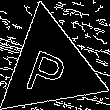P_N: (25, 37, 75, 97)
